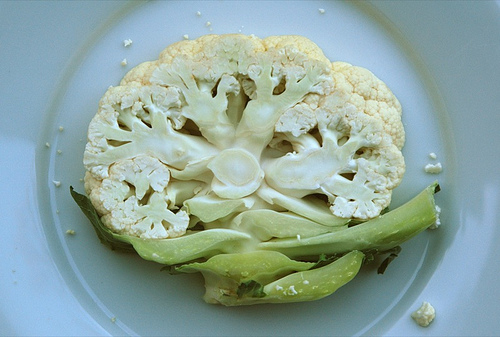cauliflower: (79, 30, 407, 246)
